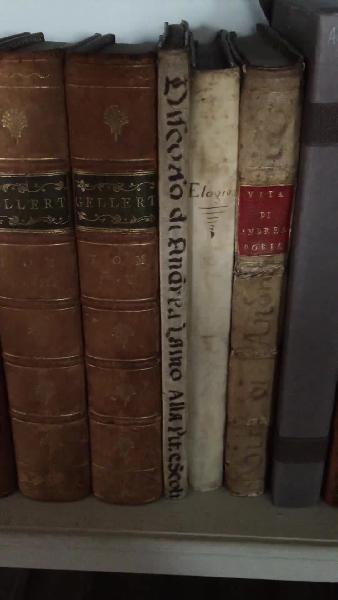Aa6-24: (151, 38, 198, 502)
Aa6-25: (186, 58, 240, 501)
Aa6-26: (225, 59, 298, 496)
